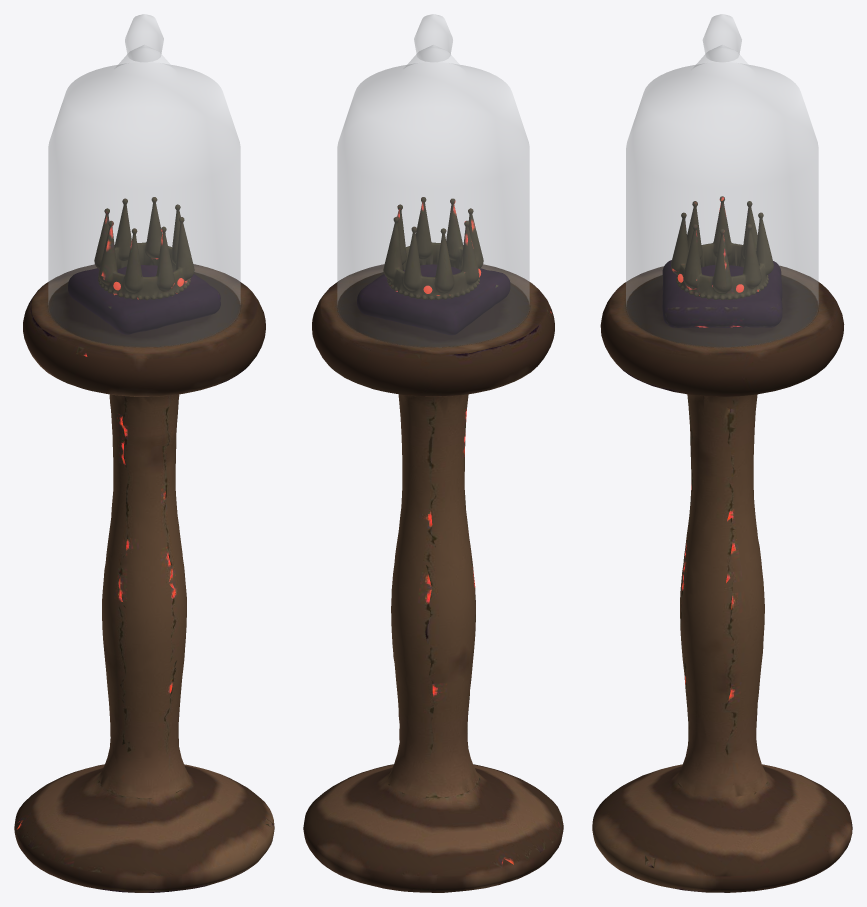
Rendered from crown_under_glass.glb.
The picture shows the model from 3 angles, left to right: view 1: azimuth 30°, elevation 25°; view 2: azimuth 150°, elevation 25°; view 3: azimuth 270°, elevation 25°; orthographic projection.
Parts seen in each view (by area): view 1: Plinth, Bell_Jar, Crown, Cushion; view 2: Plinth, Bell_Jar, Crown, Cushion; view 3: Plinth, Bell_Jar, Crown, Cushion.
Boxes of the visible parts, x1,y1,x2,y2 form: Plinth: (14,264,274,892); Bell_Jar: (48,14,240,346); Crown: (94,197,194,300); Cushion: (68,265,220,334); Plinth: (303,264,563,892); Bell_Jar: (337,14,529,346); Crown: (383,197,483,300); Cushion: (357,264,510,335); Plinth: (592,266,852,892); Bell_Jar: (626,14,818,346); Crown: (671,196,773,300); Cushion: (662,260,782,327).
Size of the model in its own units: 0.4601 by 1.61 by 0.4597.
Materials: 2 (1 with a texture image).
